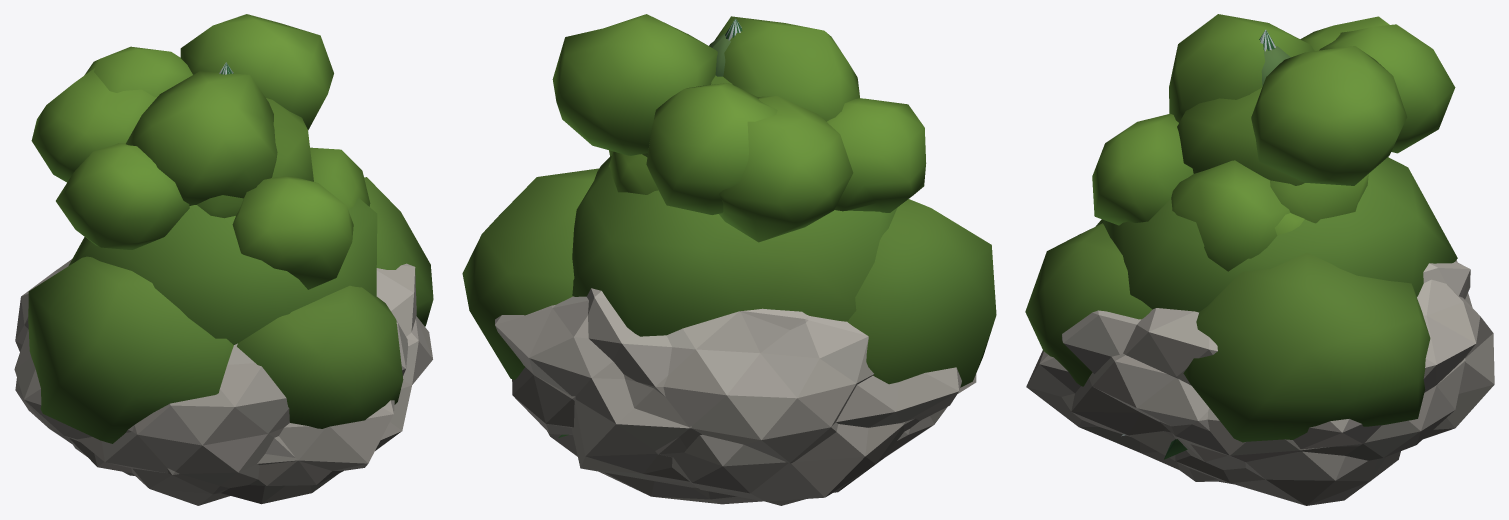
The model's file is vegetation.glb.
3 renders of one model, left to right at view 1: azimuth 30°, elevation 25°; view 2: azimuth 150°, elevation 25°; view 3: azimuth 270°, elevation 25°, orthographic. The views are drawn at different scales.
Visible parts, largest first — view 1: Bush, Broadleaf, Rock0, Rock1, Rock2; view 2: Bush, Broadleaf, Rock2, Rock1, Rock0; view 3: Bush, Broadleaf, Rock1, Rock2, Rock0.
Part boxes in pixels (x1=…): Bush: x1=28, y1=177, x2=433, y2=443; Broadleaf: x1=31, y1=14, x2=370, y2=289; Rock0: x1=15, y1=311, x2=408, y2=504; Rock1: x1=14, y1=263, x2=416, y2=505; Rock2: x1=15, y1=259, x2=432, y2=485; Bush: x1=462, y1=156, x2=996, y2=387; Broadleaf: x1=552, y1=14, x2=926, y2=242; Rock2: x1=547, y1=308, x2=947, y2=504; Rock1: x1=495, y1=296, x2=961, y2=487; Rock0: x1=512, y1=288, x2=976, y2=505; Bush: x1=1025, y1=157, x2=1457, y2=442; Broadleaf: x1=1092, y1=14, x2=1455, y2=271; Rock1: x1=1026, y1=279, x2=1494, y2=484; Rock2: x1=1061, y1=260, x2=1472, y2=505; Rock0: x1=1062, y1=261, x2=1470, y2=481.
Size of what is drawn, in the model's own units: 1.21 by 1.19 by 1.14.
